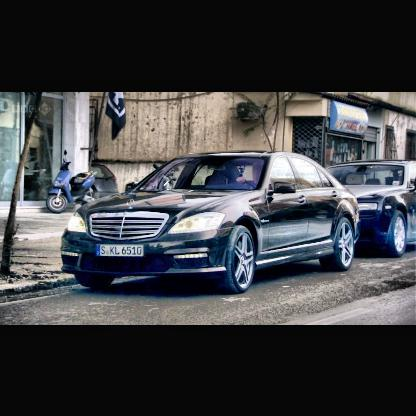Mercedes-Benz S-Class Sedan 2012: (61, 151, 360, 296)
